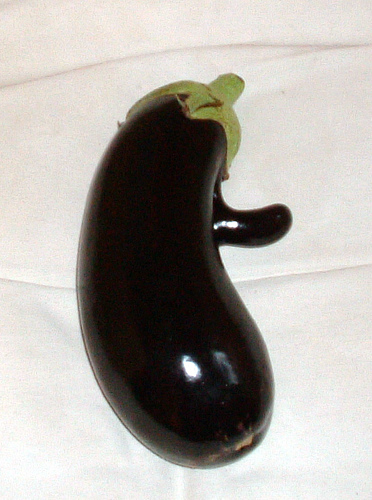eggplant: (68, 67, 295, 474)
